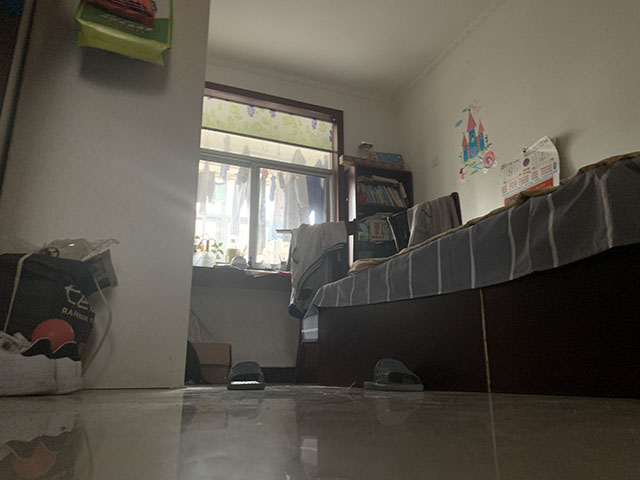bed: (300, 149, 640, 398)
slippers: (362, 357, 425, 394), (225, 361, 267, 391)
